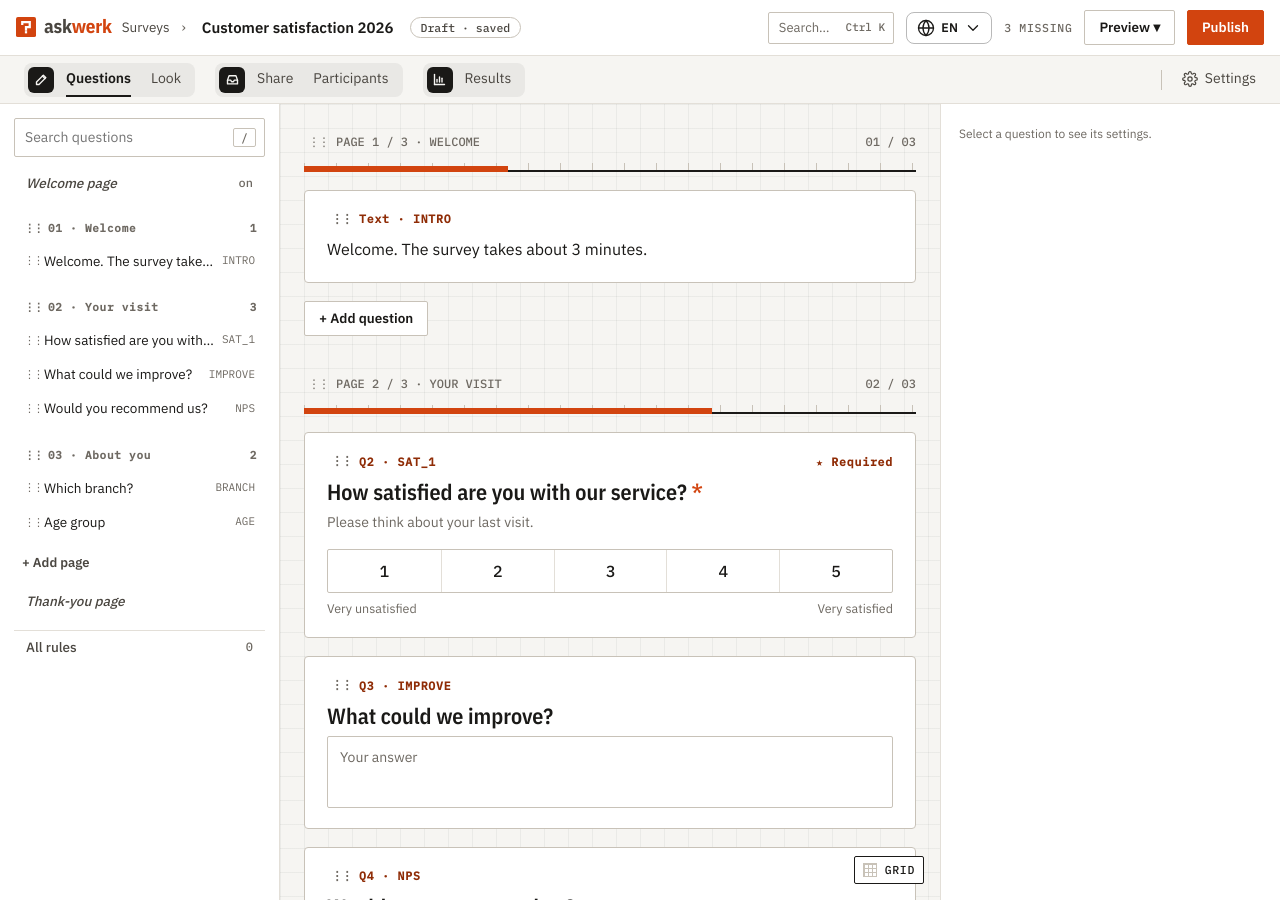
Test: Preview (AWK-22, W9 B and C, M5 B) › renames the survey by clicking its name (W23)
Expected: the navigation bar named "Outline" is shown, [0,104,280,899]
Click the button with aria-label "Customer satisfaction 2026, click to rename" at (298, 28), box [198,12,398,42]
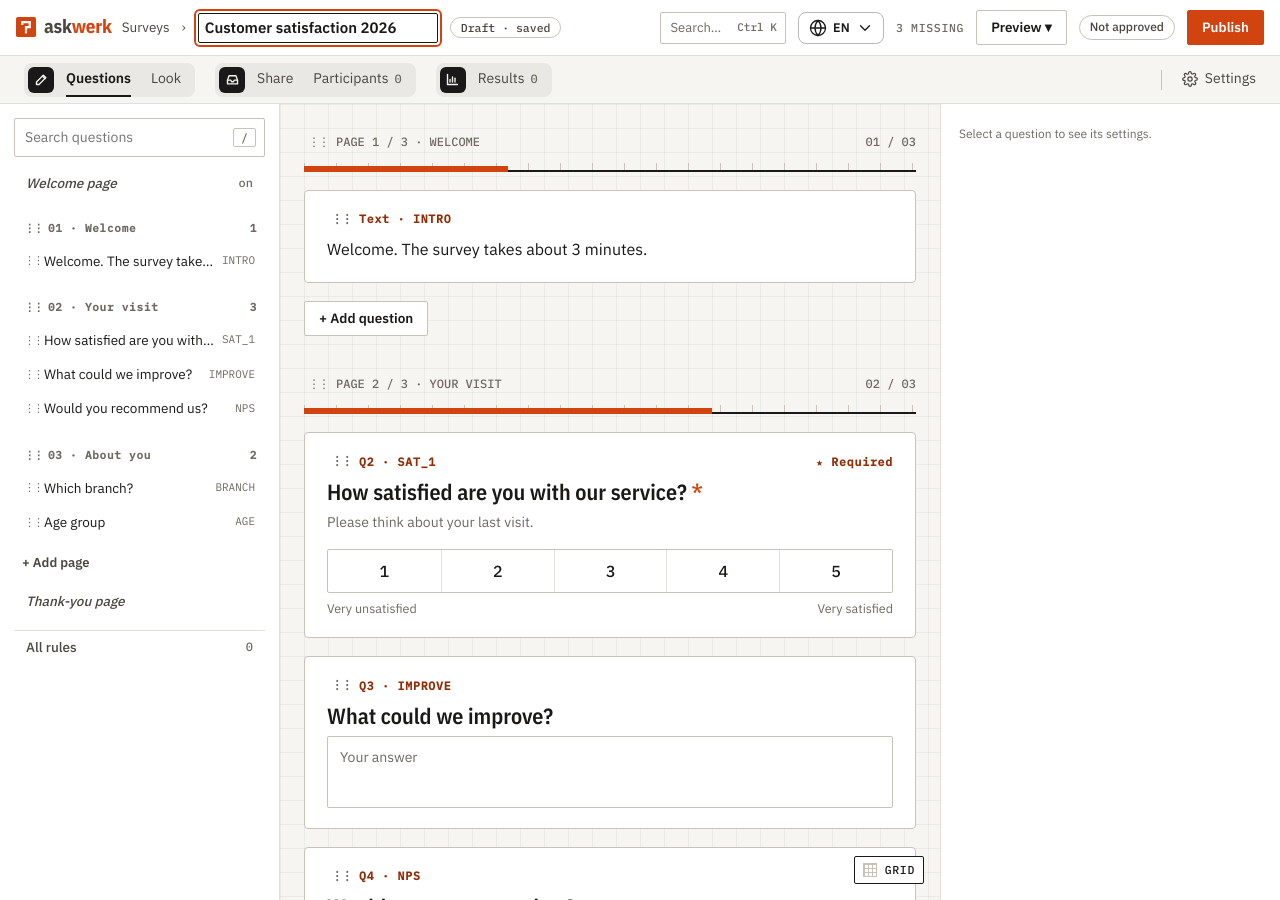
Replace the text in the field named "Title (internal, not shown to respondents)" with "Guest survey" at (318, 28), box [198,12,438,42]
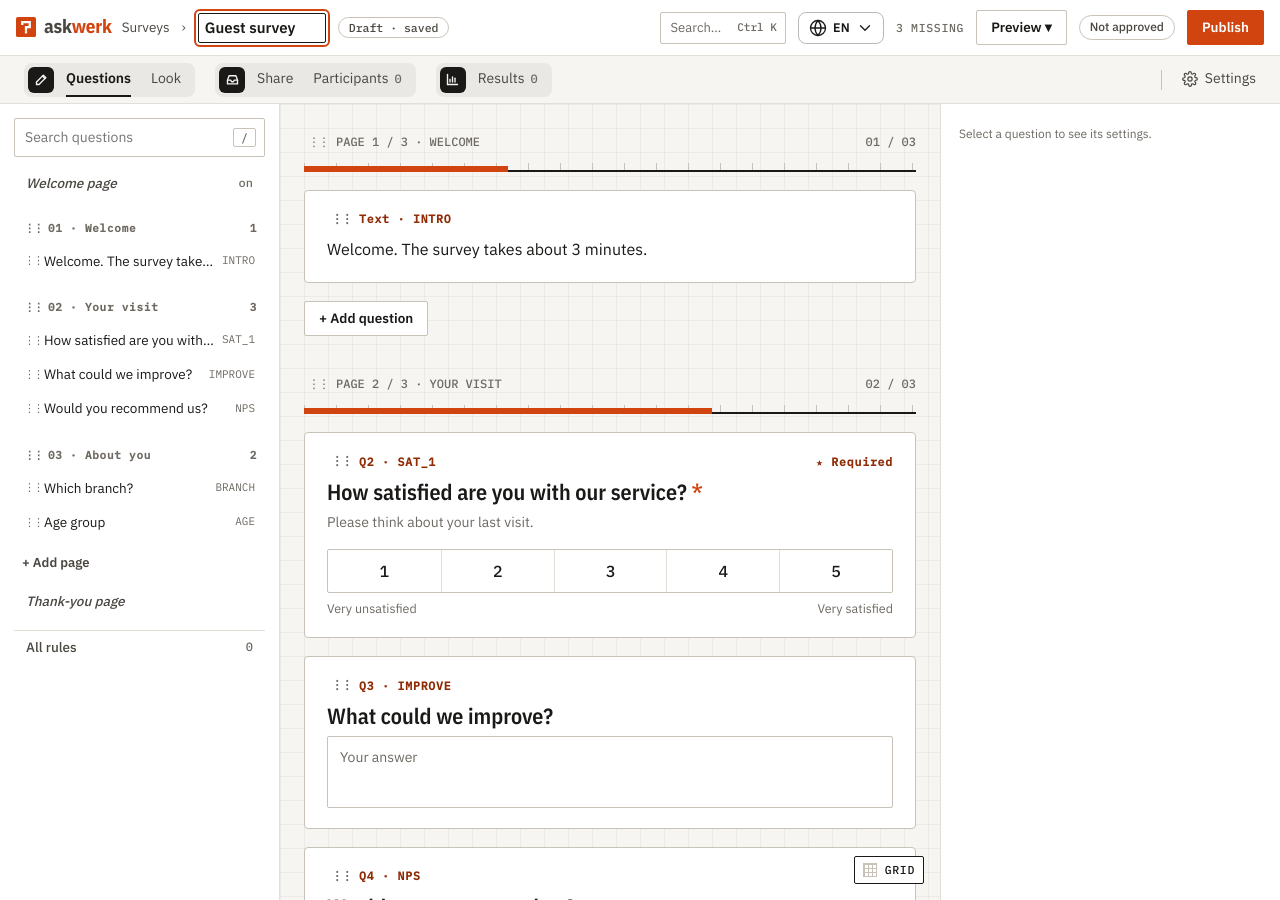
Press Enter in the field named "Title (internal, not shown to respondents)", box [198,12,326,42]
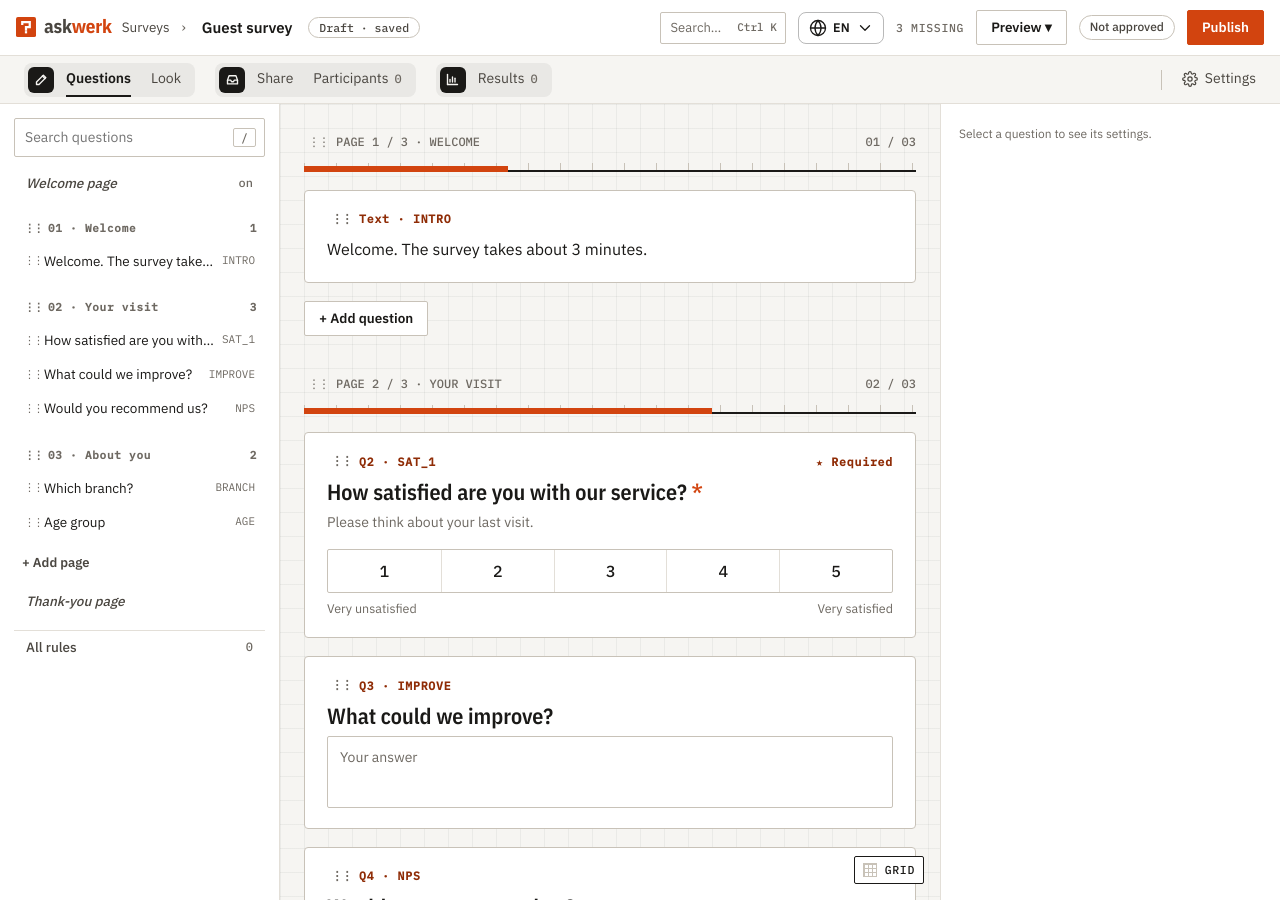
Expected: the button with aria-label "Guest survey, click to rename" is shown, [198,12,296,42]
